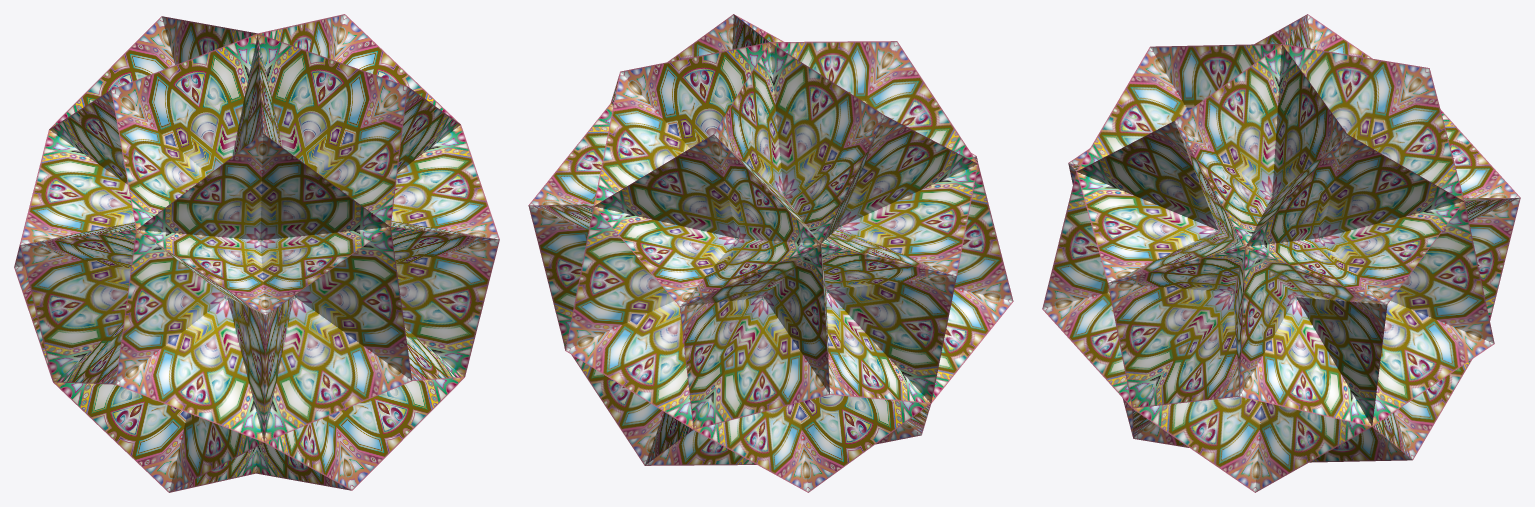
File: 6Mobius120b.obj
The picture shows the model from 3 angles, left to right: view 1: azimuth 30°, elevation 25°; view 2: azimuth 150°, elevation 25°; view 3: azimuth 270°, elevation 25°; orthographic projection. The views are drawn at different scales.
Bounding box in the file's own units: 3.09 × 3.02 × 3.11.
1 material, 1 textured.
